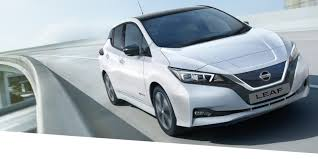Nissan: (100, 12, 309, 114)
